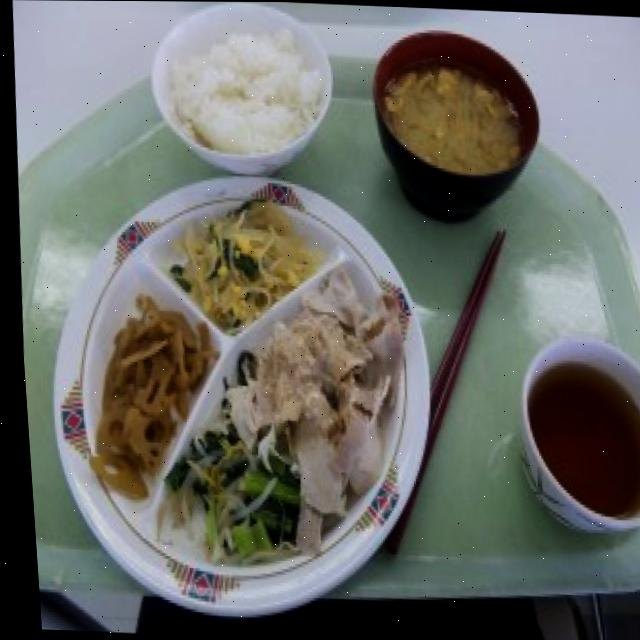米饭主食: (137, 1, 345, 184)
